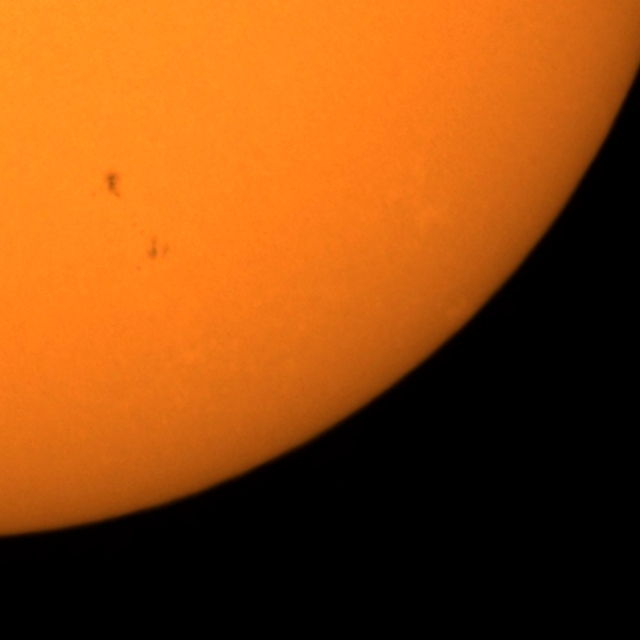sunspot: (139, 228, 173, 263), (103, 170, 124, 200)
